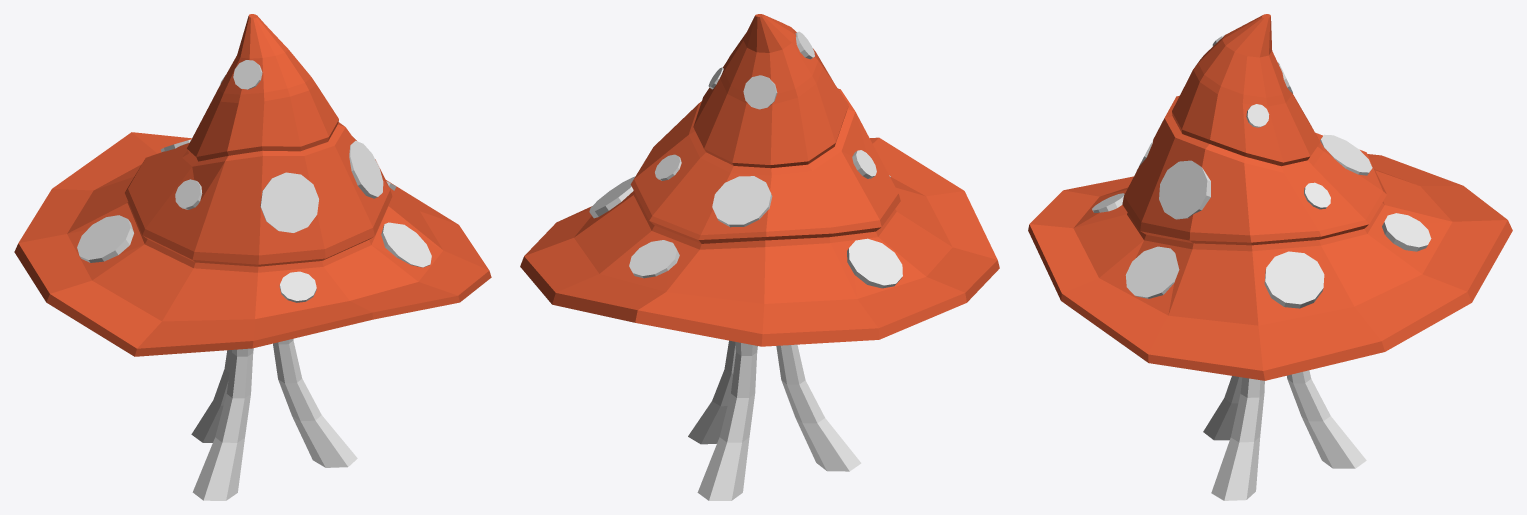
File: WitchMushroom.fbx
3 renders of one model, left to right at view 1: azimuth 30°, elevation 25°; view 2: azimuth 150°, elevation 25°; view 3: azimuth 270°, elevation 25°, orthographic.
Visible parts, largest first — view 1: Witchy; view 2: Witchy; view 3: Witchy.
Part boxes in pixels (x1=…): Witchy: x1=14, y1=14, x2=491, y2=500; Witchy: x1=520, y1=14, x2=999, y2=500; Witchy: x1=1028, y1=14, x2=1512, y2=500.
Size of the model in its own units: 567 by 586 by 579.
